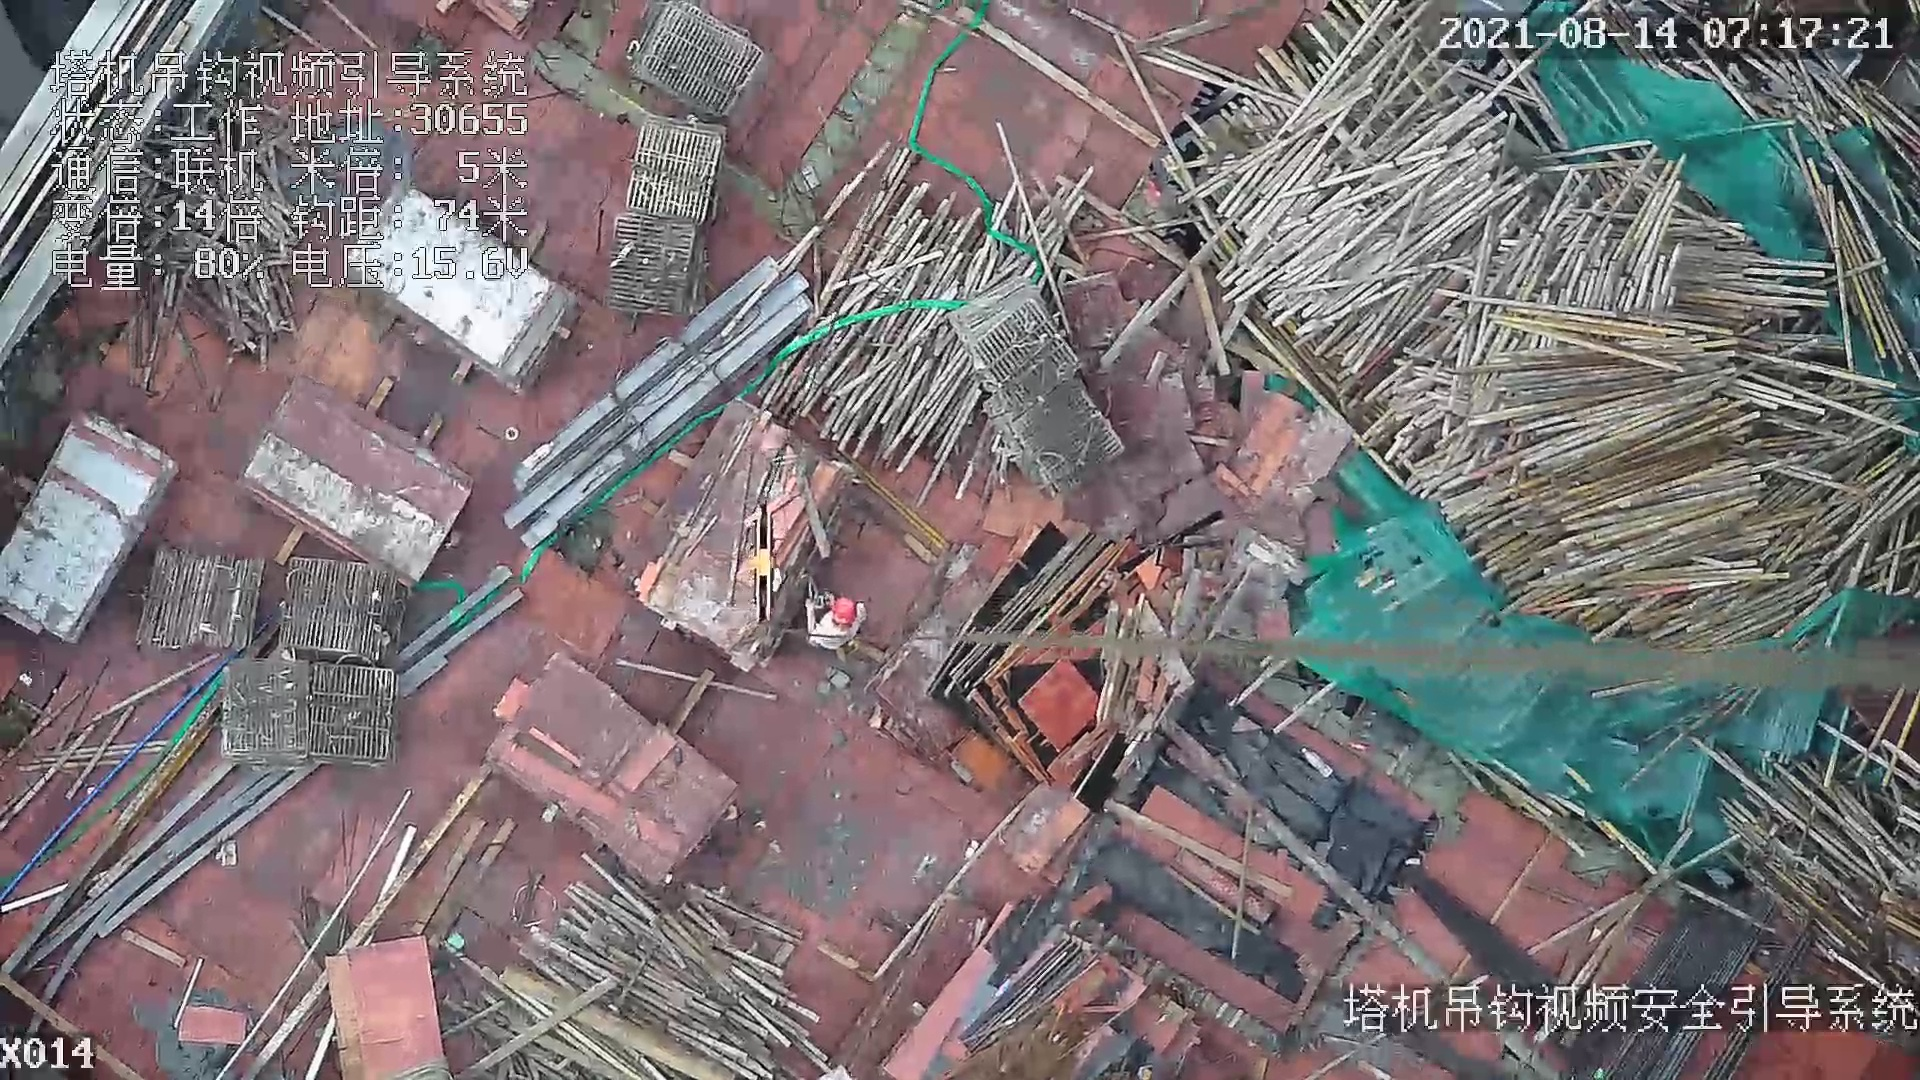helmet: (830, 597, 858, 624)
hook: (745, 504, 781, 626)
person: (795, 589, 870, 654)
